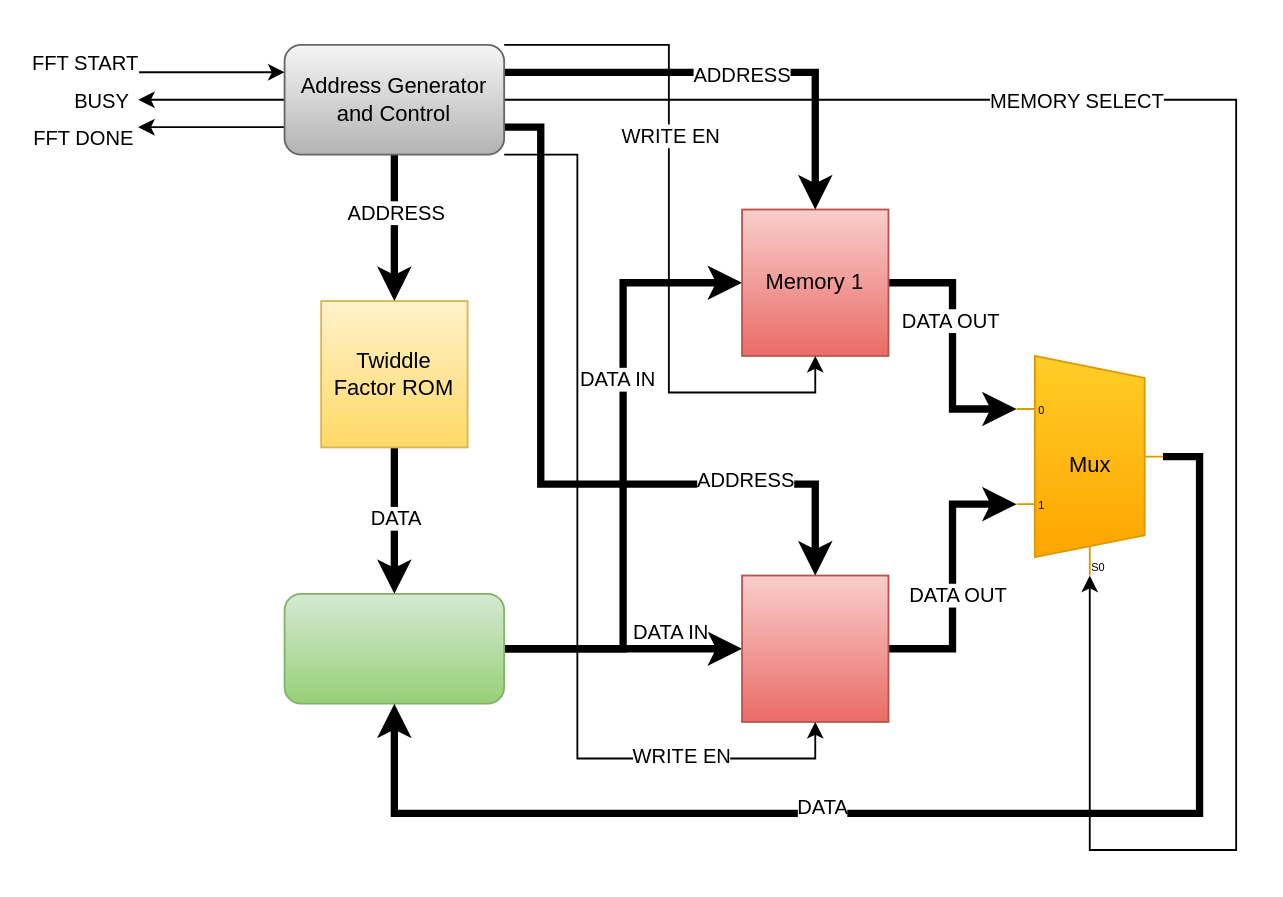
Image size: 1283x897. Some labels were removed from this diagram. Here are the shapes that lost their labels. From the top down, the centre of each, then its label:
point 393,648: BFU
point 814,648: Memory 2
